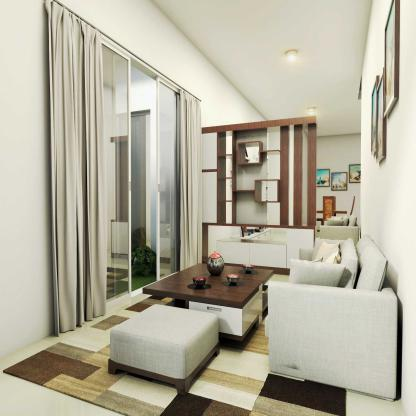gelas: (224, 271, 241, 287), (191, 275, 207, 291), (243, 263, 254, 276)
sova: (270, 234, 405, 403)
tanaman: (152, 261, 266, 351)
